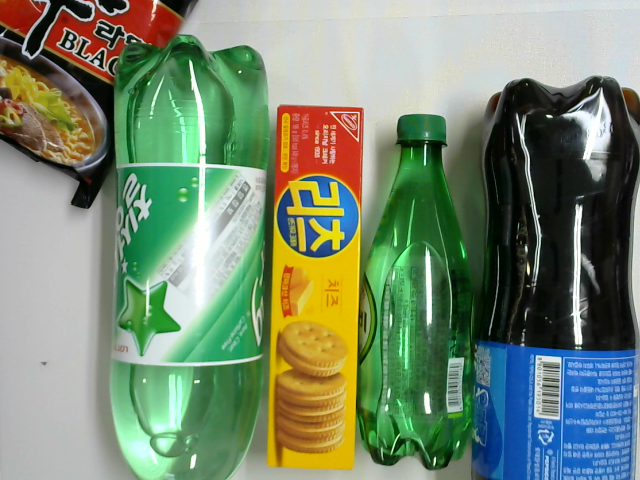Chilseong_Cider_1.5L: (103, 34, 274, 476)
Pepsi_Cola_1.5L: (477, 72, 638, 480)
Ritz_Sand_Cracker: (271, 99, 361, 480)
Sinramen_Black: (1, 1, 202, 210)
Treviraim_500ml: (358, 112, 486, 473)
